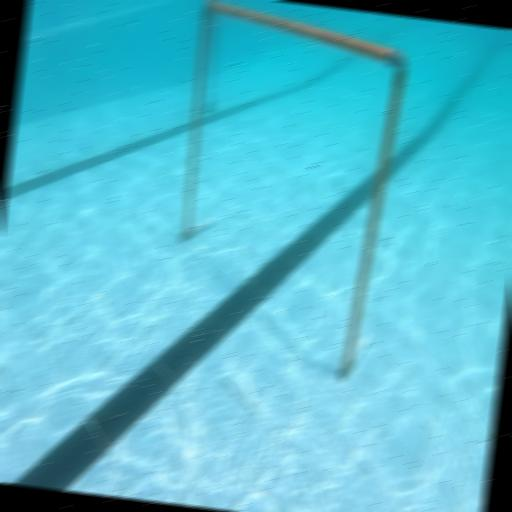gate: (158, 0, 411, 383)
